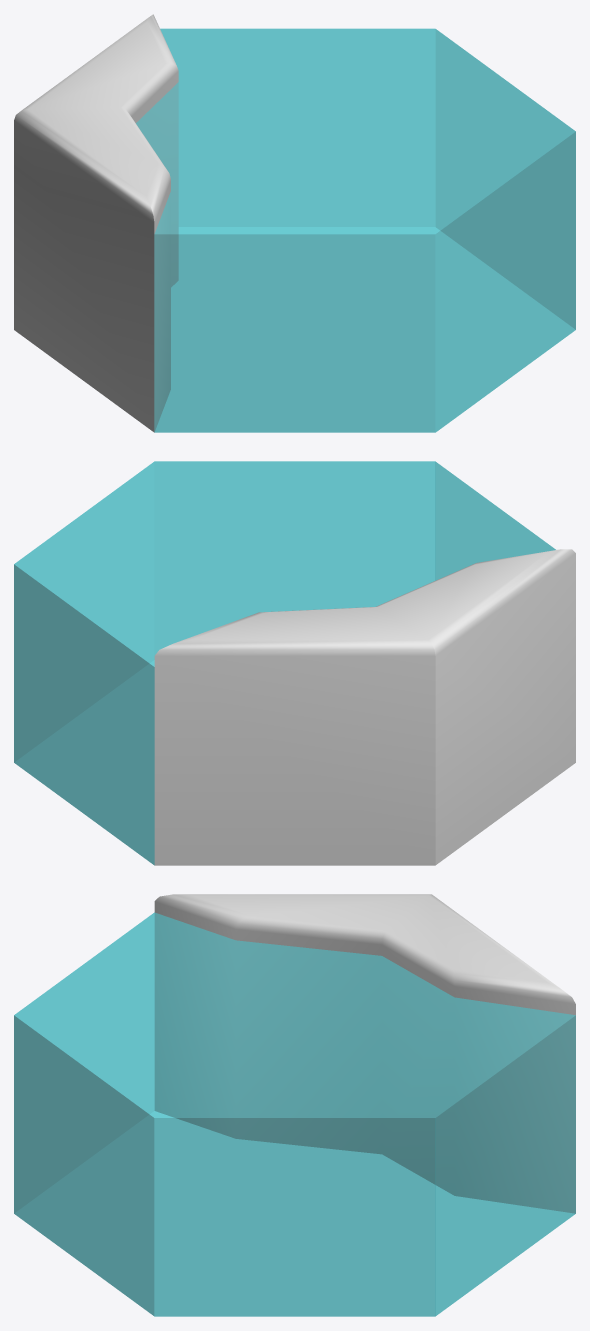
Rendered from hex_snow_waterA.fbx.
3 renders of one model, top to bottom at view 1: azimuth 30°, elevation 25°; view 2: azimuth 150°, elevation 25°; view 3: azimuth 270°, elevation 25°, orthographic.
Parts seen in each view (by area): view 1: hex_snow_waterA; view 2: hex_snow_waterA; view 3: hex_snow_waterA.
Part boxes in pixels (x1,y1,x2,y2): hex_snow_waterA: [14, 14, 575, 432]; hex_snow_waterA: [14, 461, 575, 865]; hex_snow_waterA: [14, 894, 575, 1316].
Bounding box in the file's own units: 2 × 1 × 2.31.
